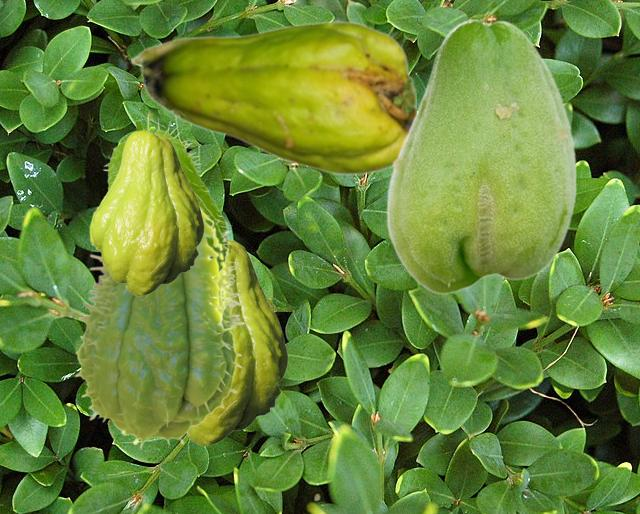sayote: (385, 18, 576, 293), (129, 20, 415, 175), (73, 192, 244, 448), (89, 112, 203, 295), (186, 239, 287, 445), (99, 117, 231, 252)
